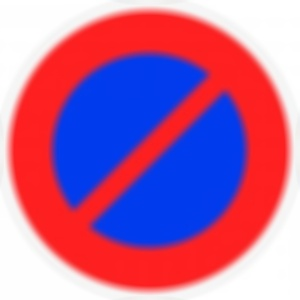Prohibition_sign: (1, 1, 299, 300)
